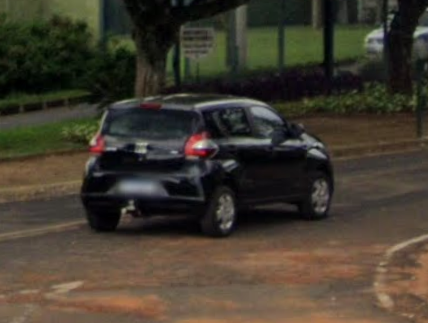car: (82, 78, 341, 242)
